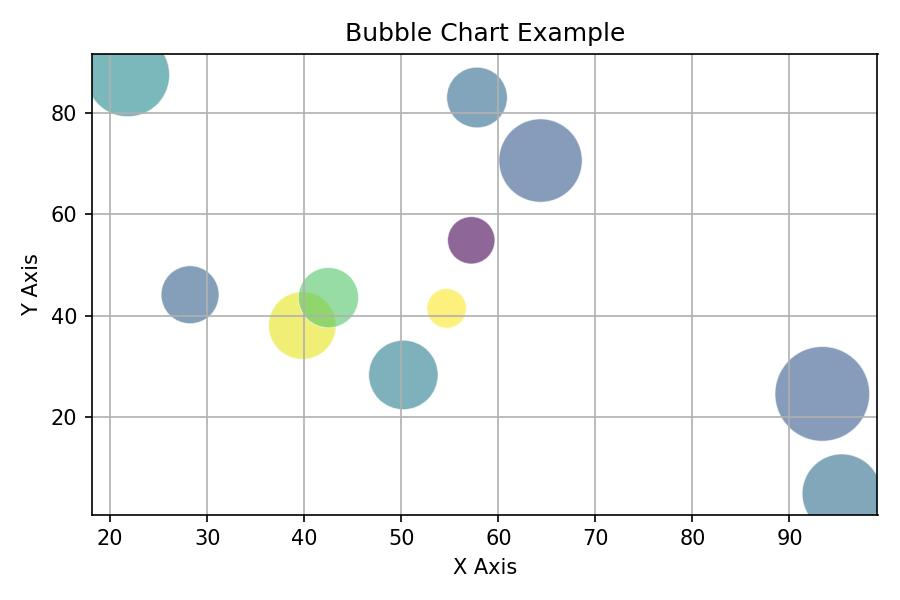axis: (78, 503, 888, 549), (55, 44, 101, 540)
circle: (776, 345, 869, 441), (499, 118, 585, 203), (369, 339, 440, 412), (91, 54, 169, 114), (269, 292, 338, 358), (447, 64, 510, 128), (805, 455, 877, 511), (300, 266, 358, 328), (161, 265, 220, 324), (448, 216, 498, 266), (426, 288, 471, 330)
